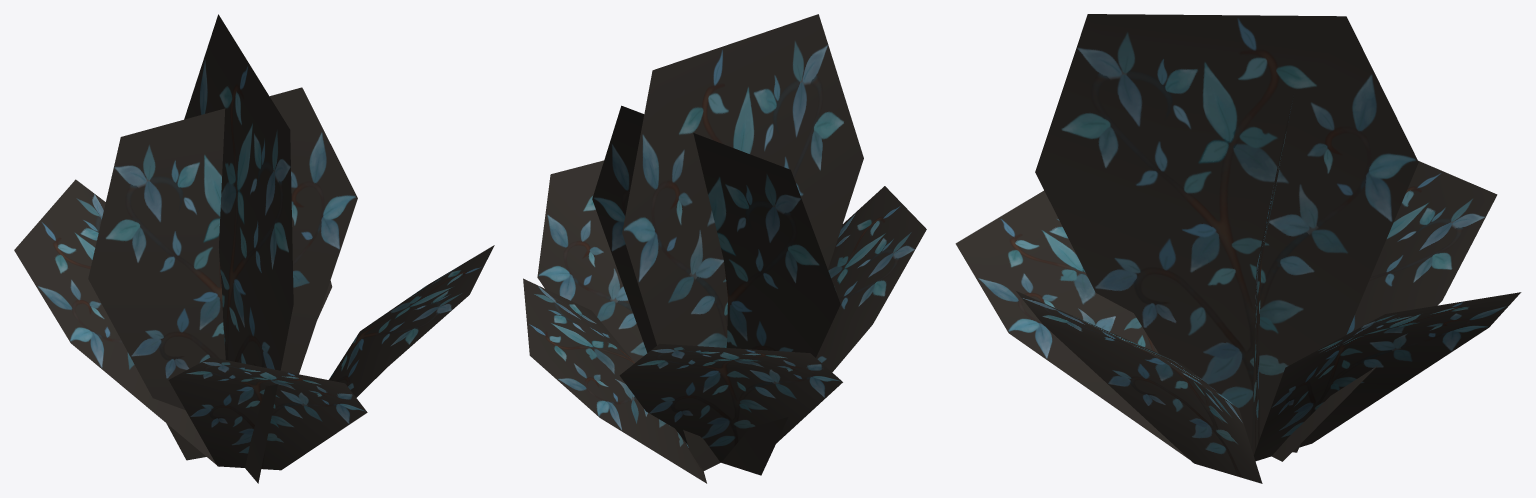
File: bush2.fbx
3 renders of one model, left to right at view 1: azimuth 30°, elevation 25°; view 2: azimuth 150°, elevation 25°; view 3: azimuth 270°, elevation 25°, orthographic. The views are drawn at different scales.
Visible parts, largest first — view 1: bush2; view 2: bush2; view 3: bush2.
Boxes of the visible parts, box(x1,y1,x2,y2) form: bush2: box(14, 14, 494, 483); bush2: box(523, 14, 926, 483); bush2: box(955, 14, 1521, 483).
Size of the model in its own units: 239 by 251 by 287.
